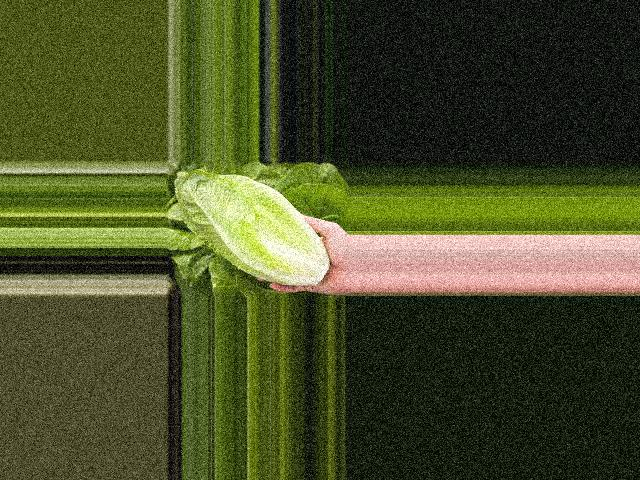lettuce: (175, 170, 334, 290)
